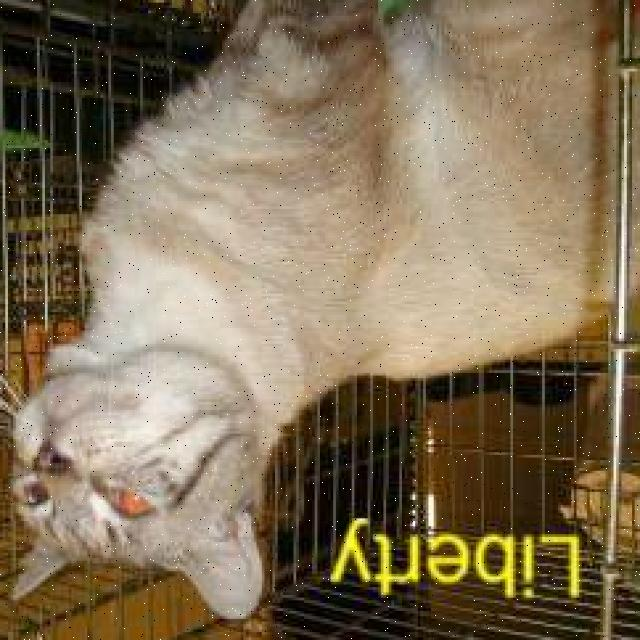Cat: (5, 322, 266, 619)
